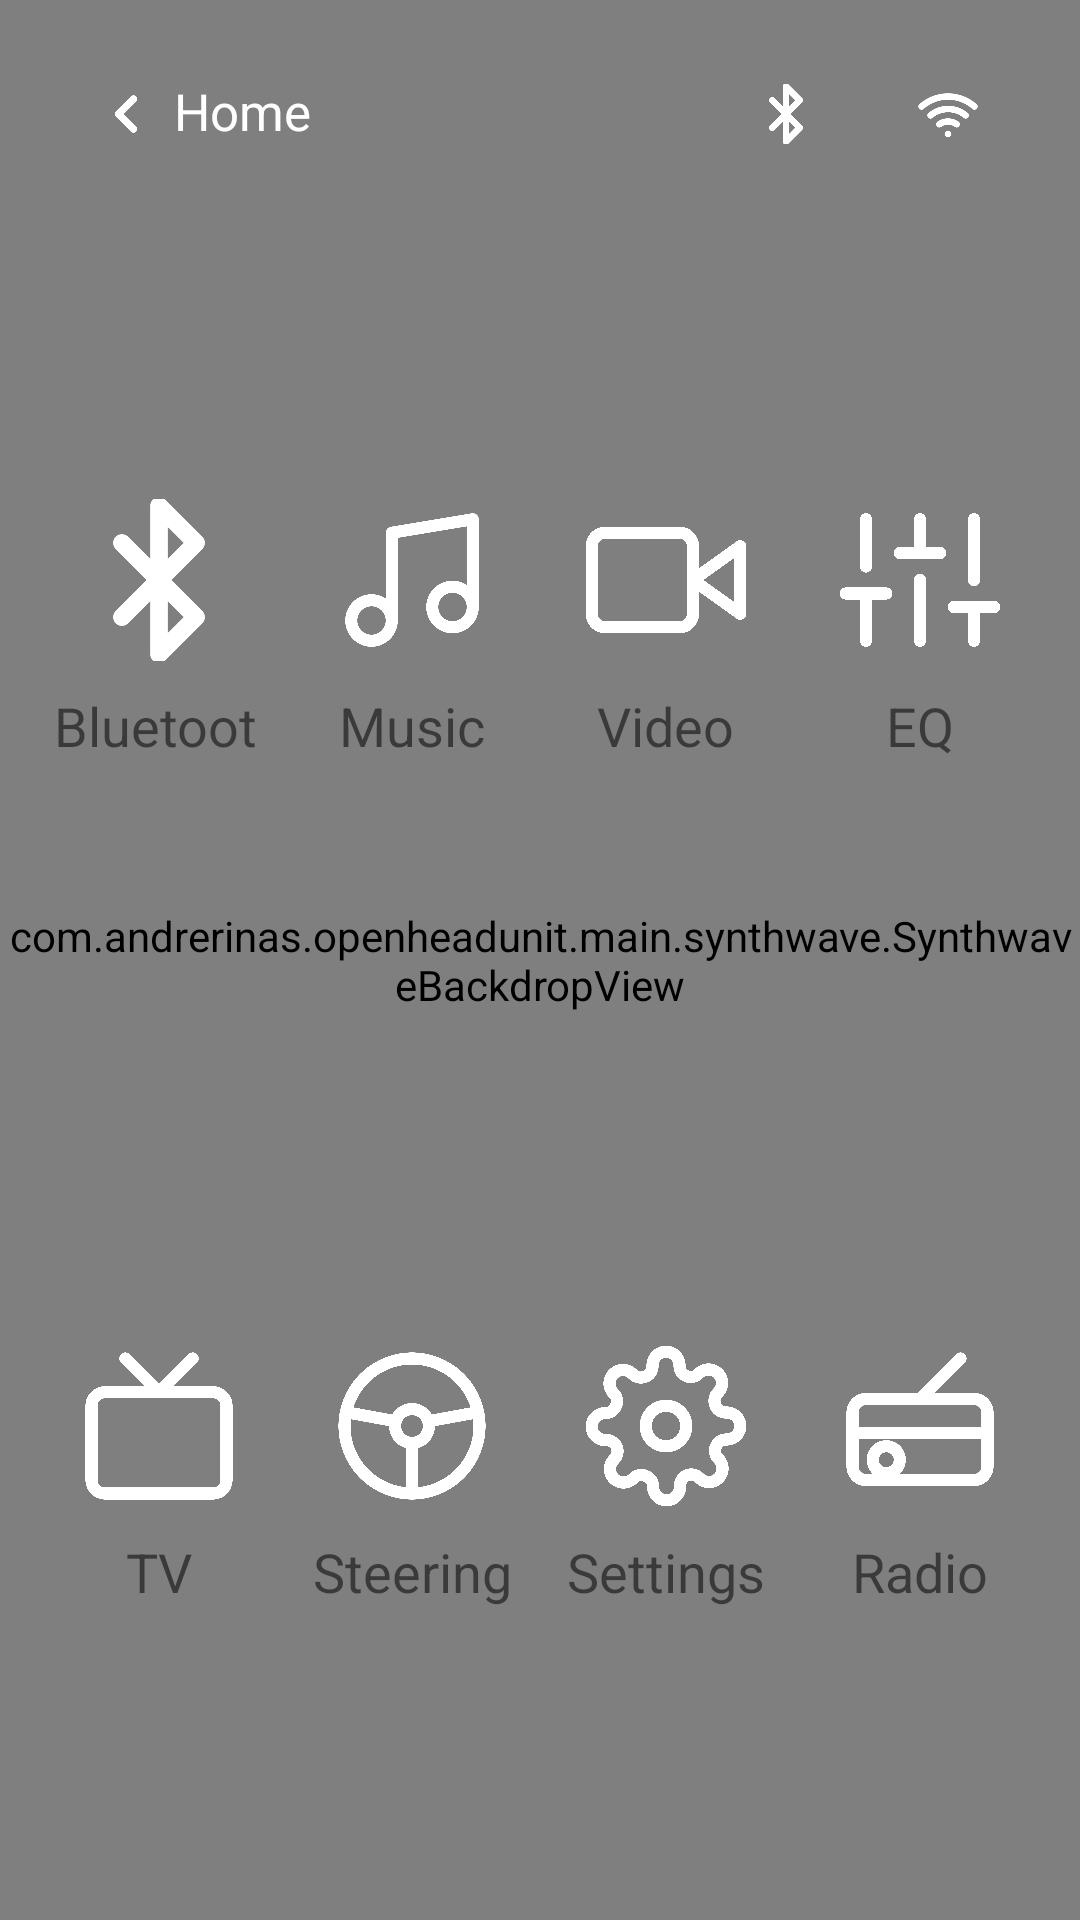

Named icons in this screenshot (1080x1920) and their centers, (x=x, y=y):
wifi: (x=948, y=115)
